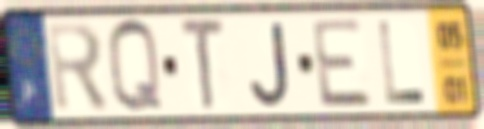E: (309, 16, 376, 111)
J: (247, 19, 293, 110)
L: (375, 18, 429, 107)
Q: (104, 15, 167, 118)
R: (44, 19, 112, 116)
T: (178, 15, 228, 116)
